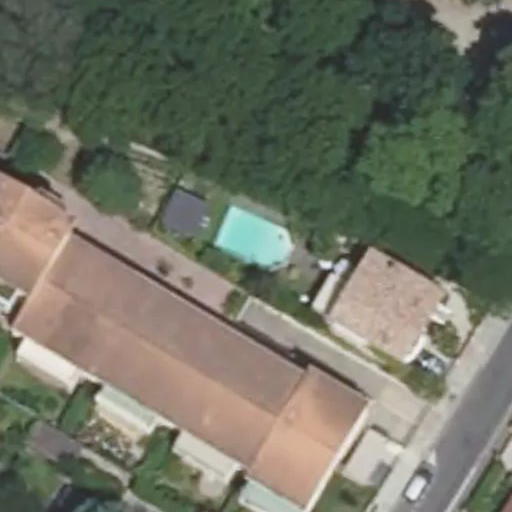pool: (219, 211, 289, 264)
